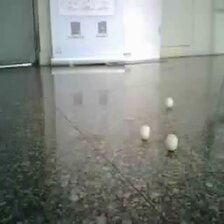w: (163, 134, 178, 150), (139, 124, 151, 139), (164, 96, 174, 108)
